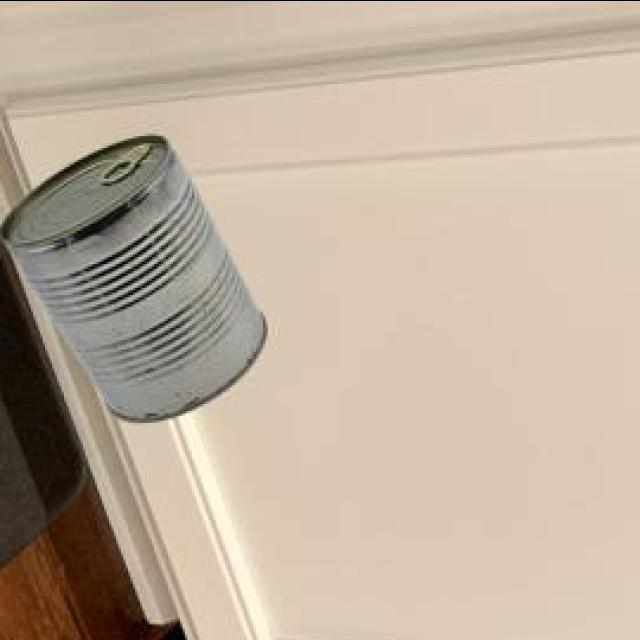logam: (4, 139, 269, 423)
